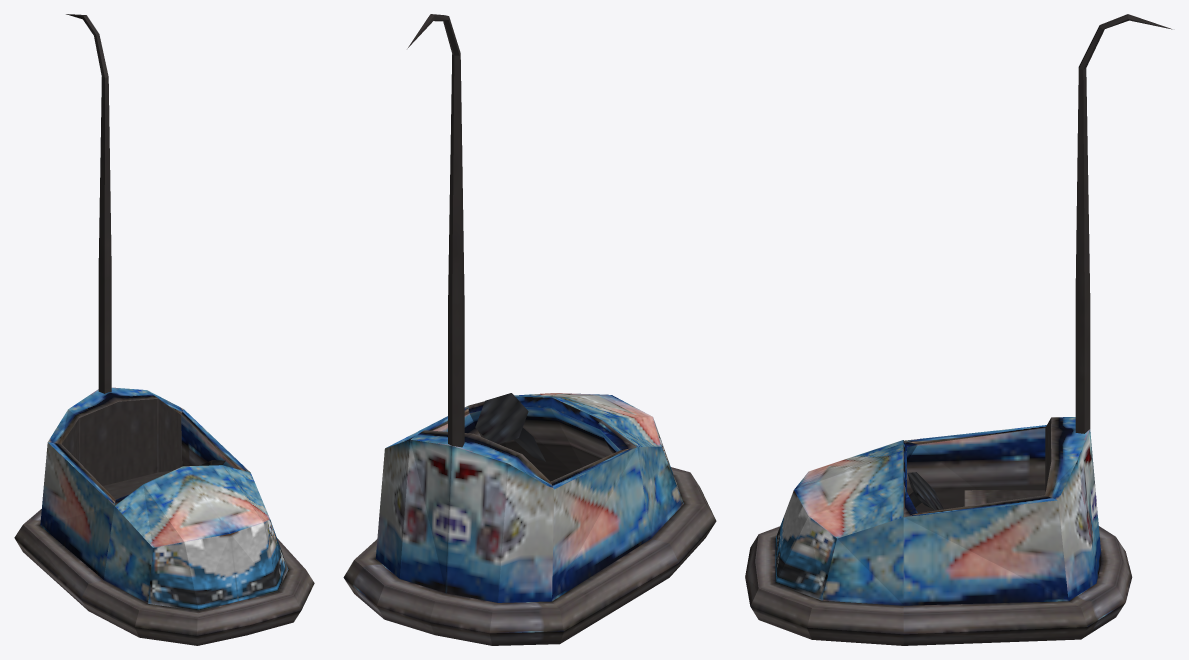
The model's file is BumperCar01a.obj.
3 renders of one model, left to right at view 1: azimuth 30°, elevation 25°; view 2: azimuth 150°, elevation 25°; view 3: azimuth 270°, elevation 25°, orthographic. The views are drawn at different scales.
Parts seen in each view (by area): view 1: BumperCar01a; view 2: BumperCar01a; view 3: BumperCar01a.
Part boxes in pixels (x1,y1,x2,y2): BumperCar01a: [14, 14, 314, 645]; BumperCar01a: [343, 14, 716, 645]; BumperCar01a: [745, 14, 1172, 645].
Bounding box in the file's own units: 2.52 × 6 × 3.99.
